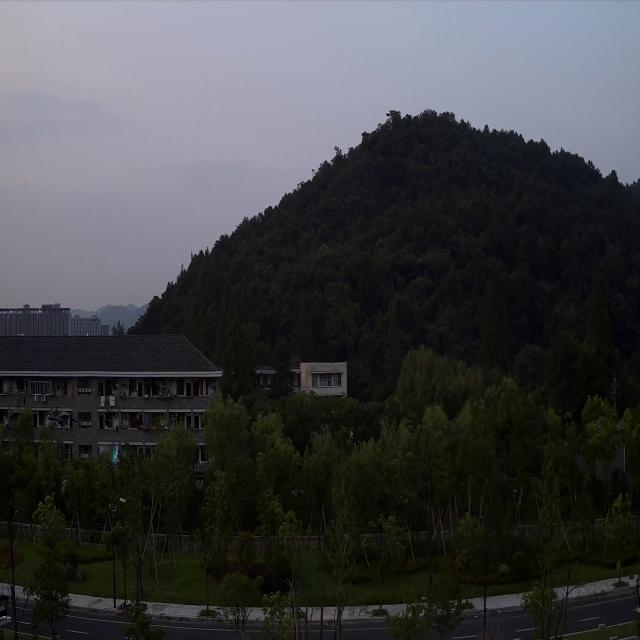UAV: (46, 406, 80, 431)
